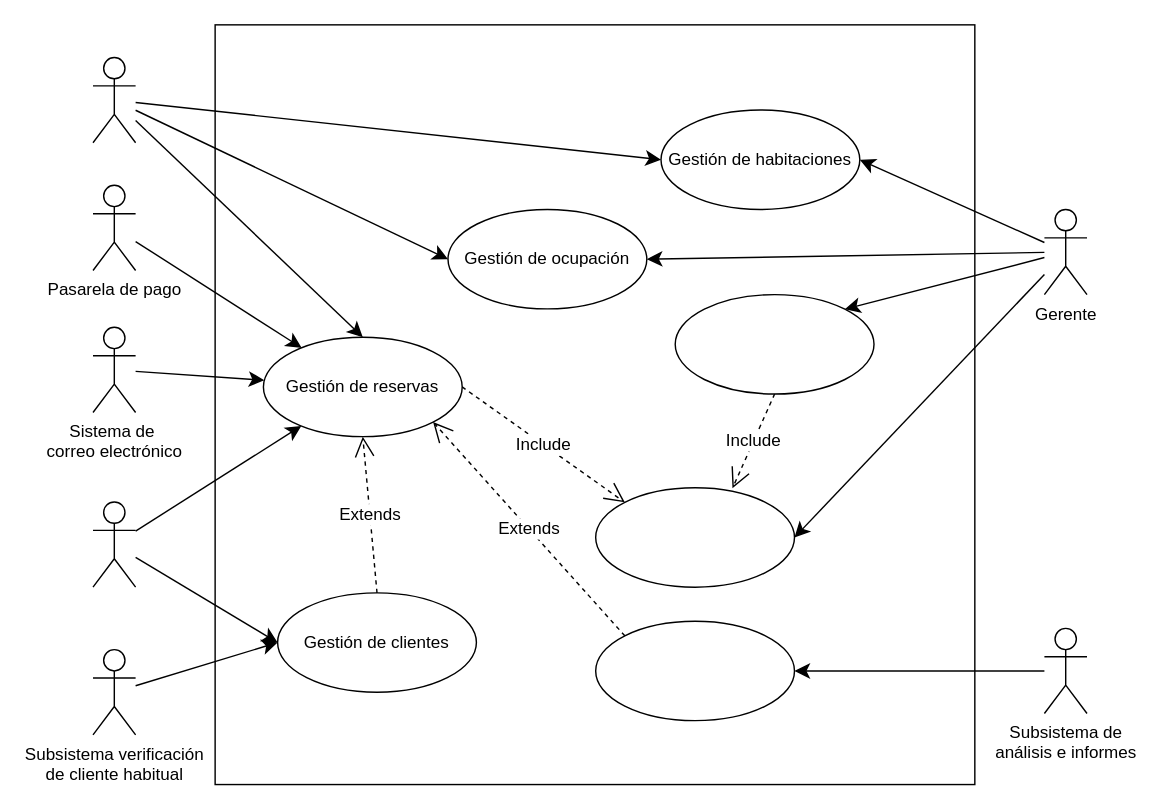
Image size: 1160x811. Some labels were removed from this diagram. The centre of each missing label's shape, as x and y in pixels:
Cliente: (114,544)
Gestión de análisis e informes: (694,670)
Gestión de facturación y descuentos: (694,536)
Gestión de productos y servicios: (774,343)
Recepcionista: (114,99)
